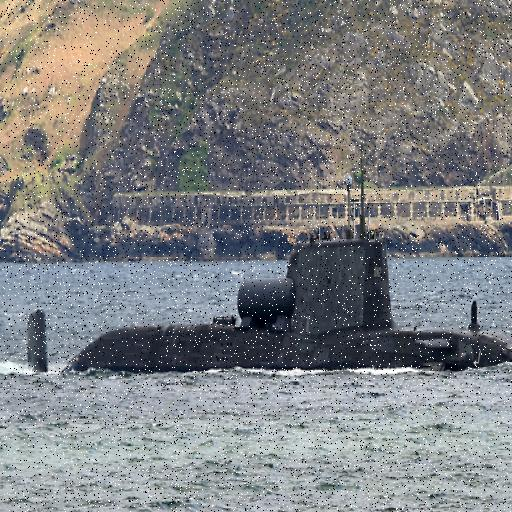submarine: (23, 239, 512, 375)
